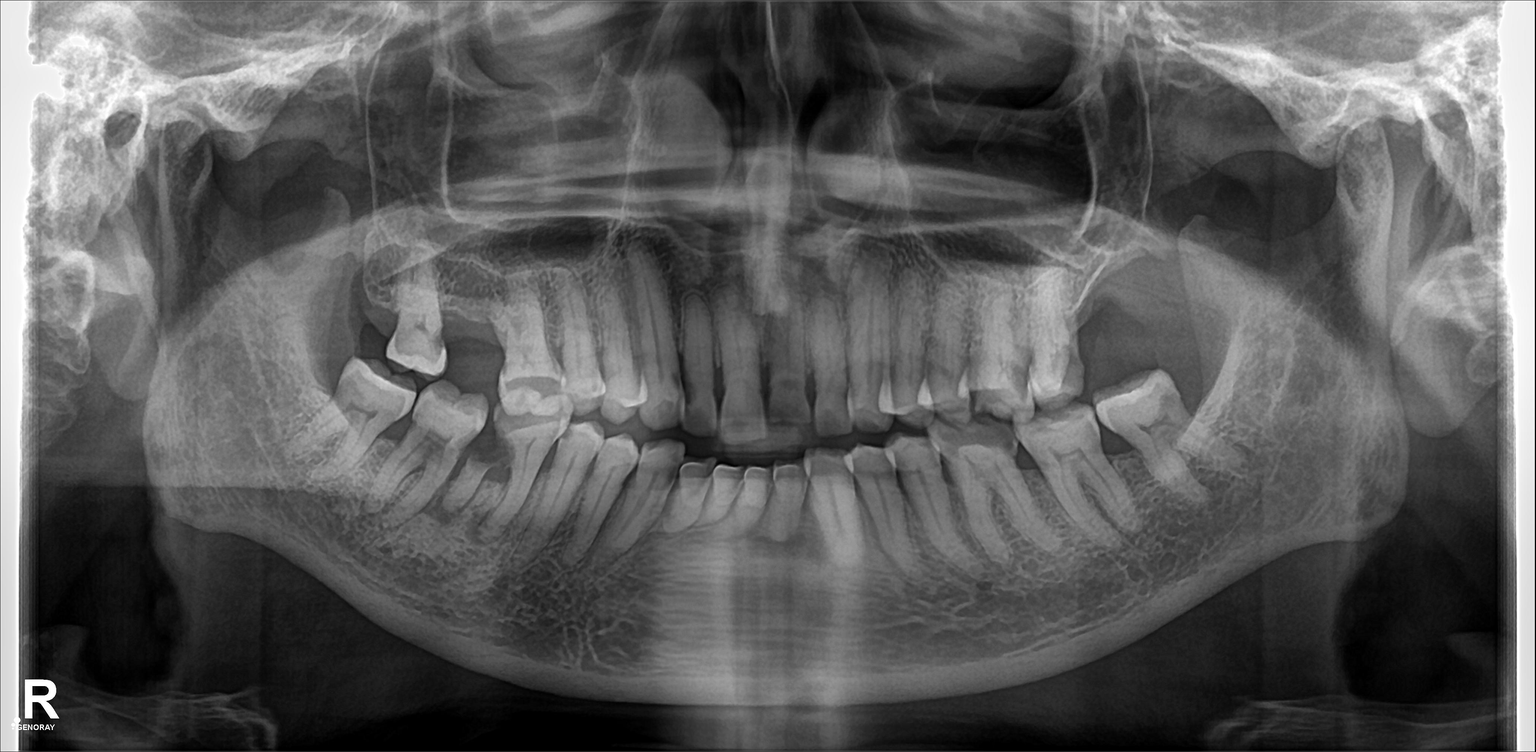Missing Tooth: (1132, 233, 1186, 361), (1073, 251, 1129, 369), (447, 279, 502, 375), (352, 255, 396, 341), (1183, 342, 1226, 426)
Retained Root: (462, 437, 514, 518)
